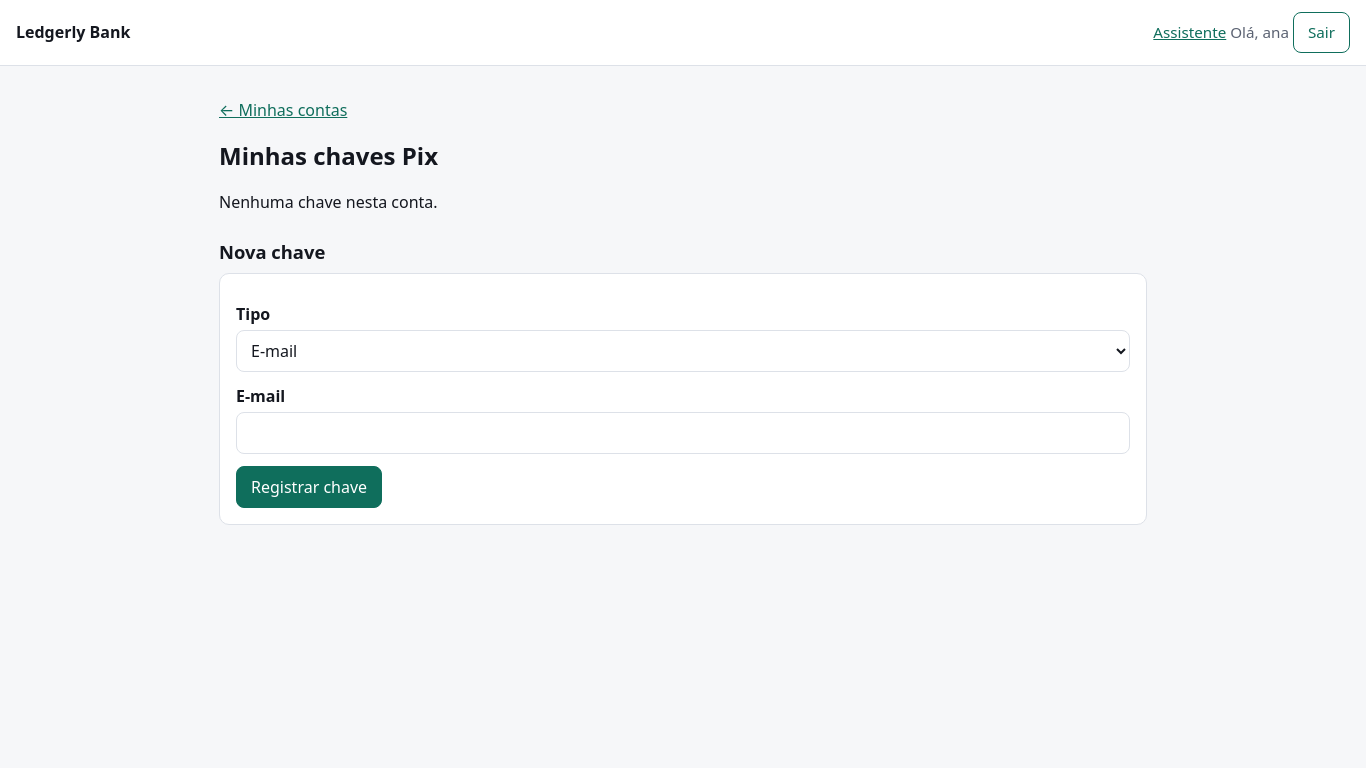
Test case: minhas chaves › erro ao registrar aparece para a pessoa
Expected: the text "Nenhuma chave nesta conta." is shown, [219, 191, 438, 213]
Type "ana@exemplo.test" into the field labelled "E-mail".
click(683, 433); type("ana@exemplo.test")  # box [236, 412, 1130, 454]
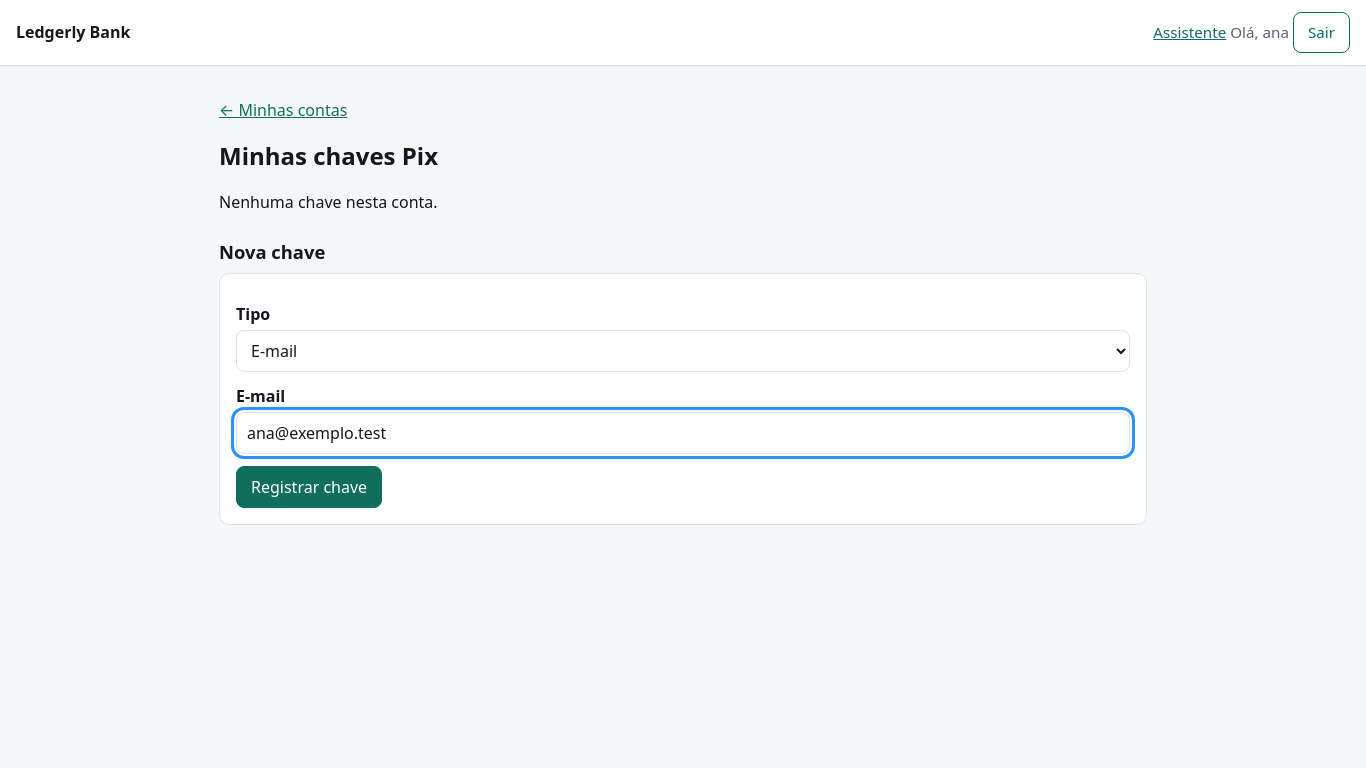
Click the button "Registrar chave".
click(309, 487)  # box [236, 466, 382, 508]
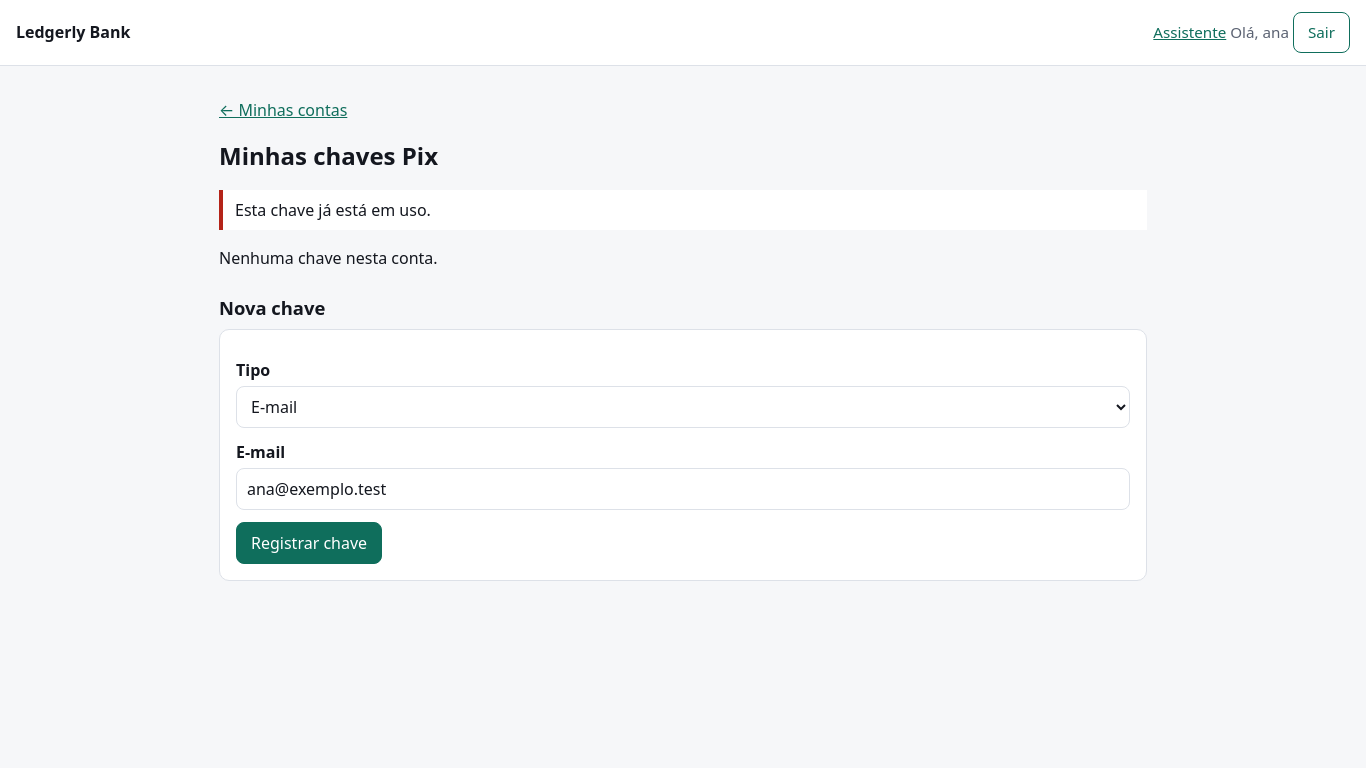
Expected: the message reads "Esta chave já está em uso.", [235, 199, 431, 221]
